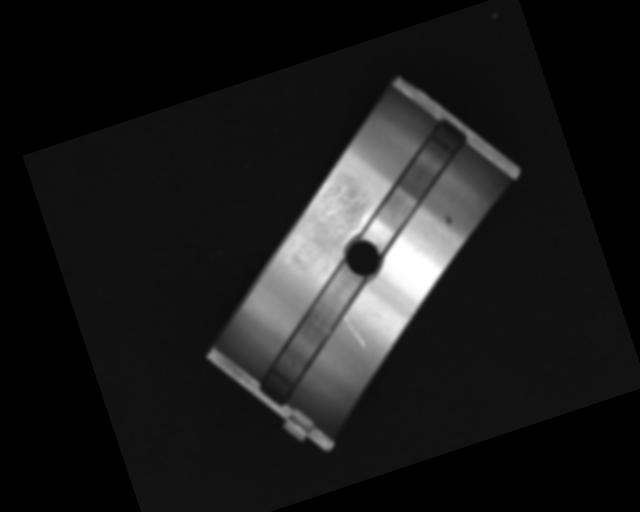bruise: (442, 212, 454, 227)
gap: (234, 262, 396, 402), (338, 117, 491, 252)
hole: (339, 233, 388, 283)
nick: (343, 312, 365, 353)
scratch: (270, 178, 383, 283)
